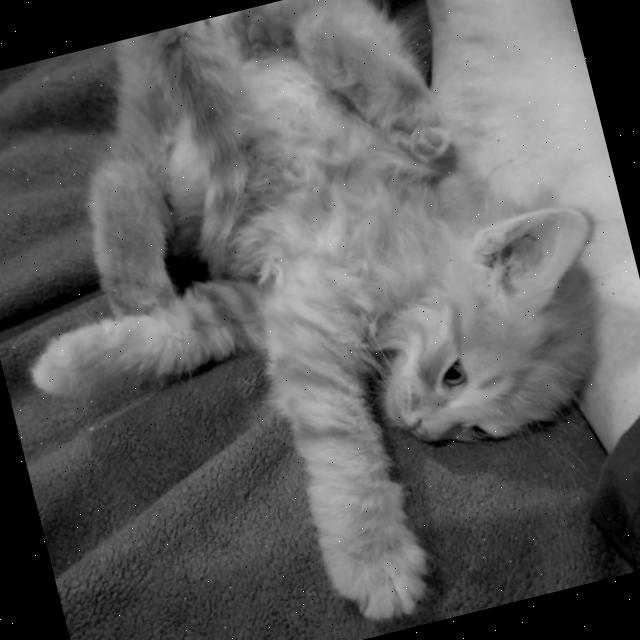domestic_long_hair_cat: (327, 179, 640, 495)
